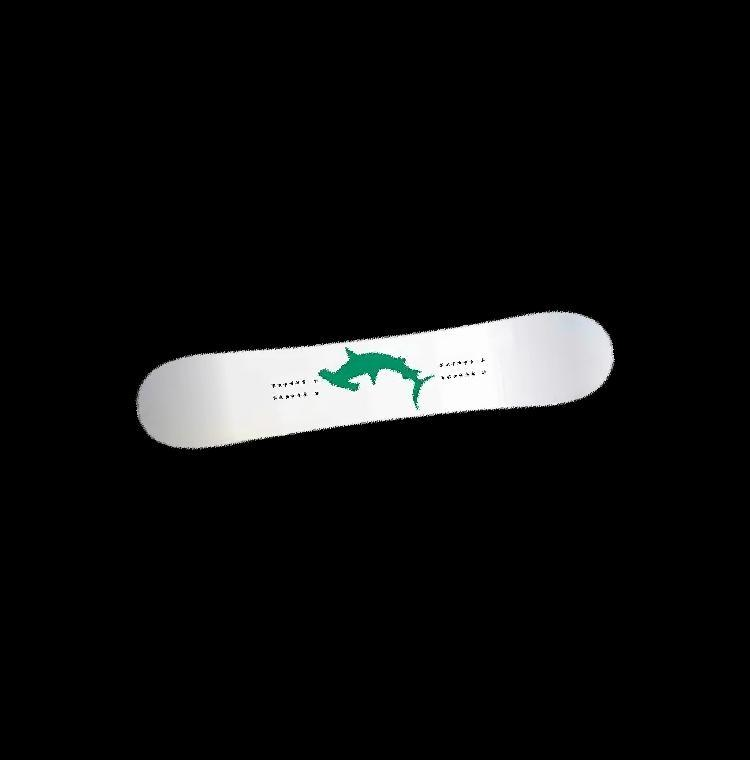Snowboard: (135, 309, 614, 450)
